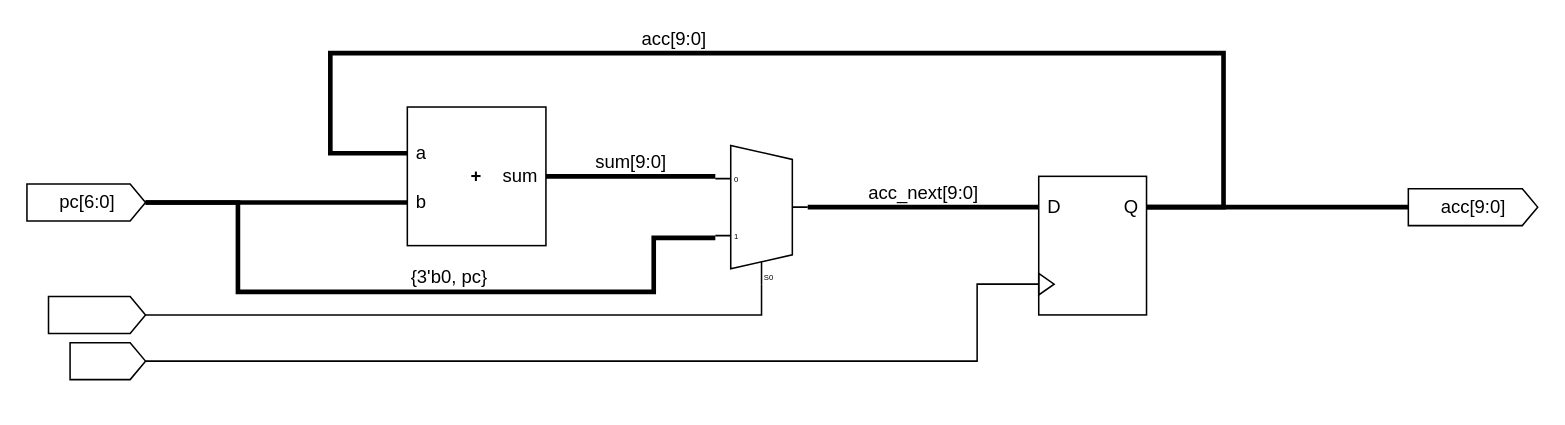
The diagram is 1565 pixels wide and 425 high, and some of its shapes have lost their labels. The shapes that lost their labels are listed below. From the top down, each one's centre as x and y in pixels, then its label:
(x=96, y=314): first
(x=107, y=360): clk
